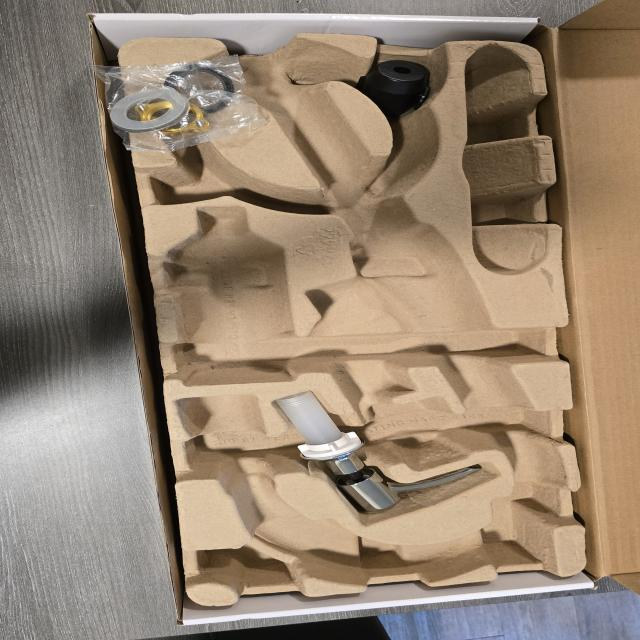1m: (175, 33, 560, 583)
2: (275, 391, 482, 513)
3m: (169, 206, 289, 383)
4m: (460, 44, 549, 274)
5: (361, 59, 437, 116)
6: (82, 52, 265, 153)
7m: (149, 148, 282, 207)
